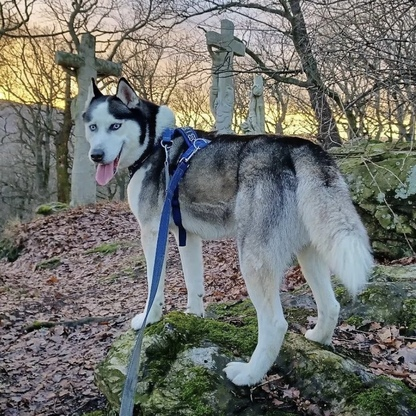husky: (76, 74, 379, 391)
